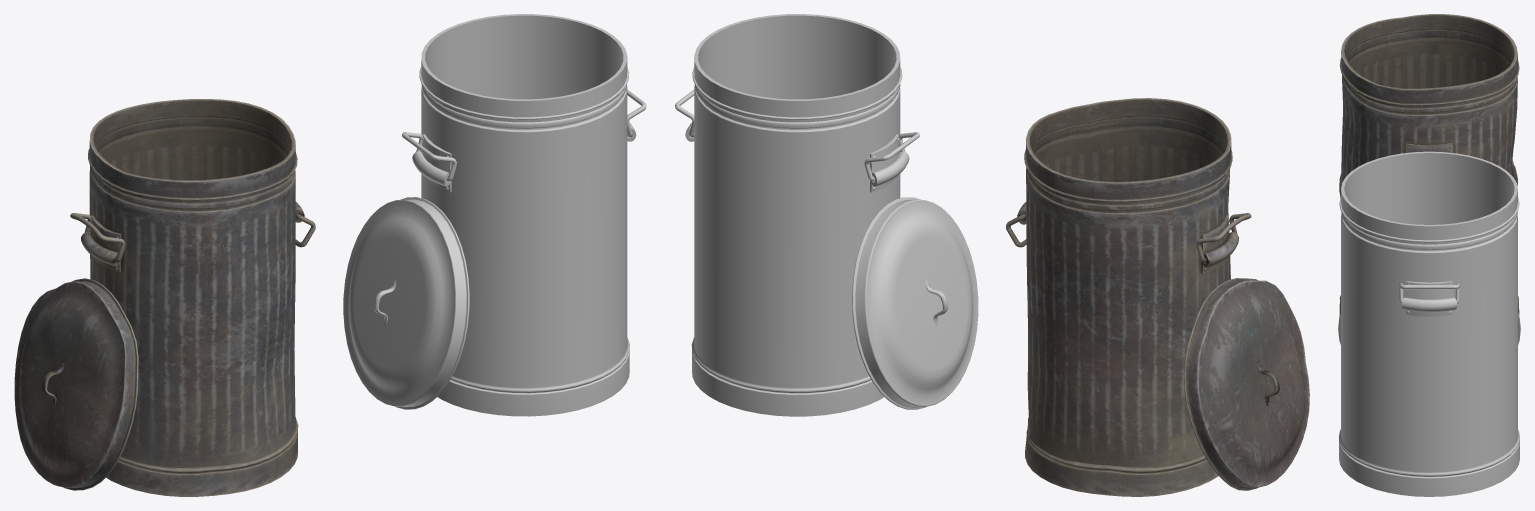
Rendered from Trasher.fbx.
The picture shows the model from 3 angles, left to right: view 1: azimuth 30°, elevation 25°; view 2: azimuth 150°, elevation 25°; view 3: azimuth 270°, elevation 25°; orthographic projection. The views are drawn at different scales.
Visible parts, largest first — view 1: metal_trash_can, metal_trash_can_rust, metal_trash_can_lid, metal_trash_can_rust_lid; view 2: metal_trash_can, metal_trash_can_rust, metal_trash_can_lid, metal_trash_can_rust_lid; view 3: metal_trash_can, metal_trash_can_rust, metal_trash_can_handle_right.
Boxes of the visible parts, bbox=[...] form: metal_trash_can: bbox=[412, 14, 636, 416]; metal_trash_can_rust: bbox=[81, 99, 304, 496]; metal_trash_can_lid: bbox=[343, 197, 469, 409]; metal_trash_can_rust_lid: bbox=[14, 278, 138, 490]; metal_trash_can: bbox=[685, 14, 909, 416]; metal_trash_can_rust: bbox=[1017, 98, 1238, 496]; metal_trash_can_lid: bbox=[852, 197, 978, 409]; metal_trash_can_rust_lid: bbox=[1183, 278, 1309, 490]; metal_trash_can: bbox=[1338, 151, 1519, 496]; metal_trash_can_rust: bbox=[1339, 14, 1519, 316]; metal_trash_can_handle_right: bbox=[1399, 283, 1459, 303].
Size of the model in its own units: 178 by 90.62 by 55.63.
